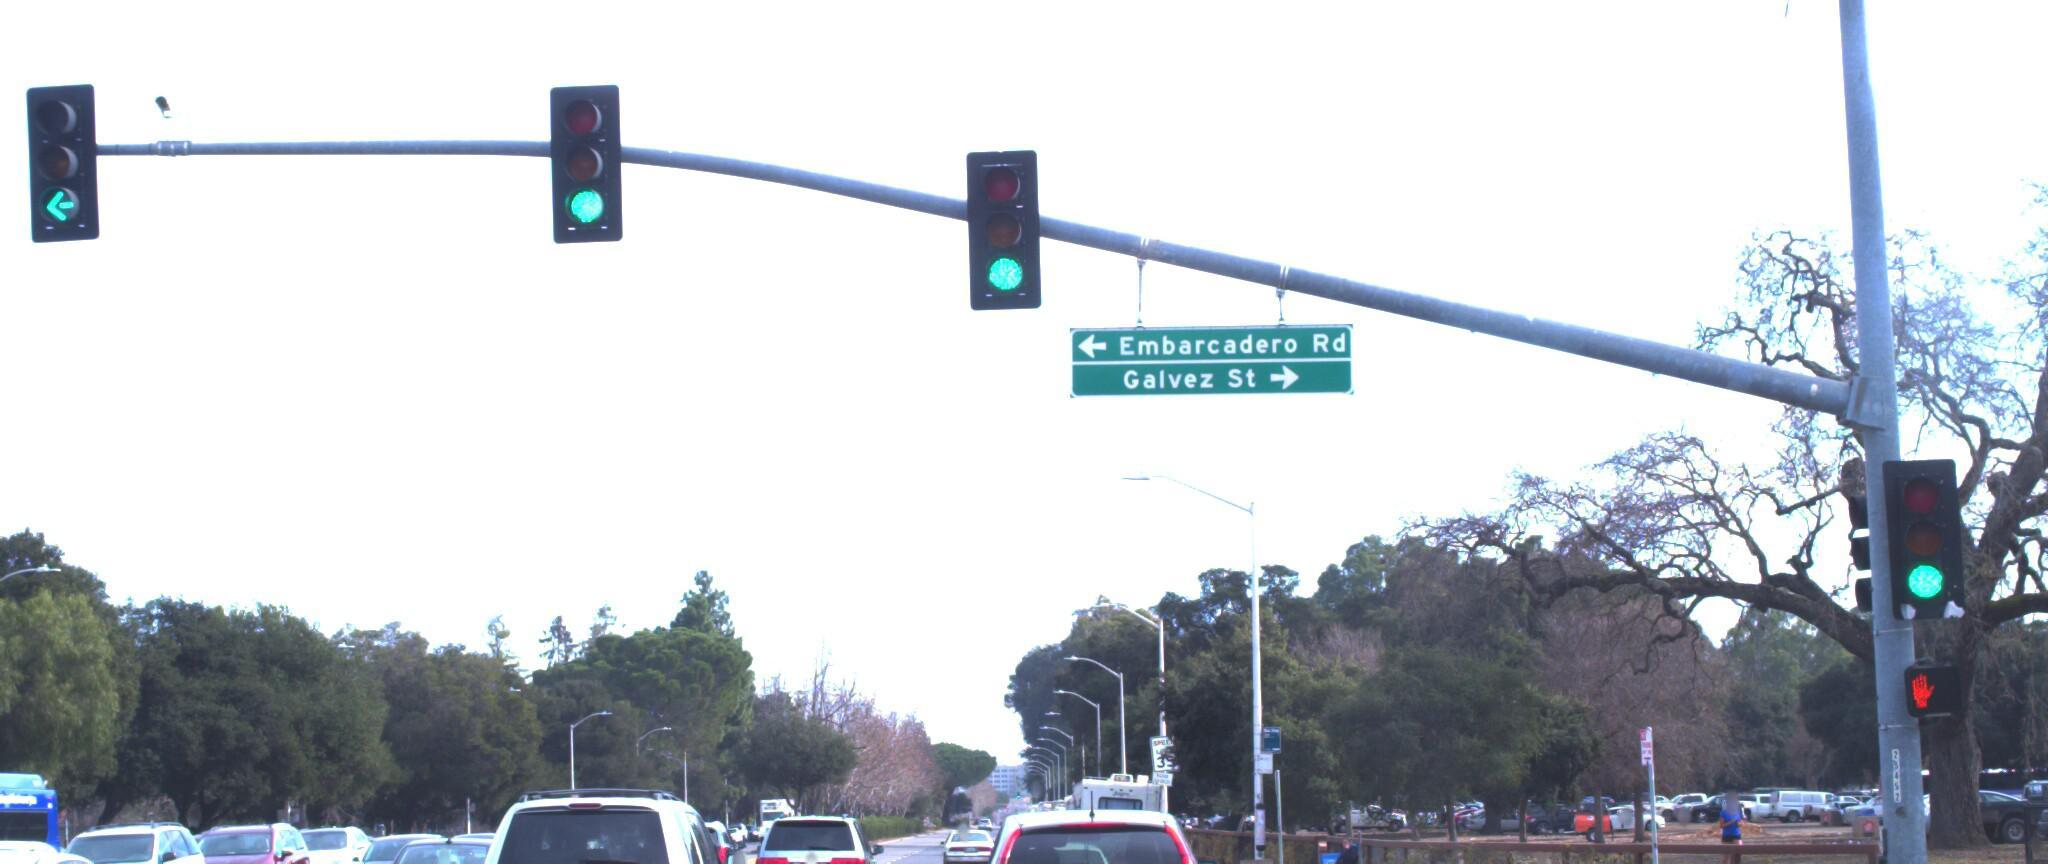bus: (0, 752, 68, 864)
car: (455, 770, 754, 864), (946, 777, 1238, 864), (347, 804, 550, 864), (0, 809, 212, 864), (739, 790, 882, 864), (140, 809, 316, 864), (235, 810, 385, 864), (0, 826, 210, 864)
